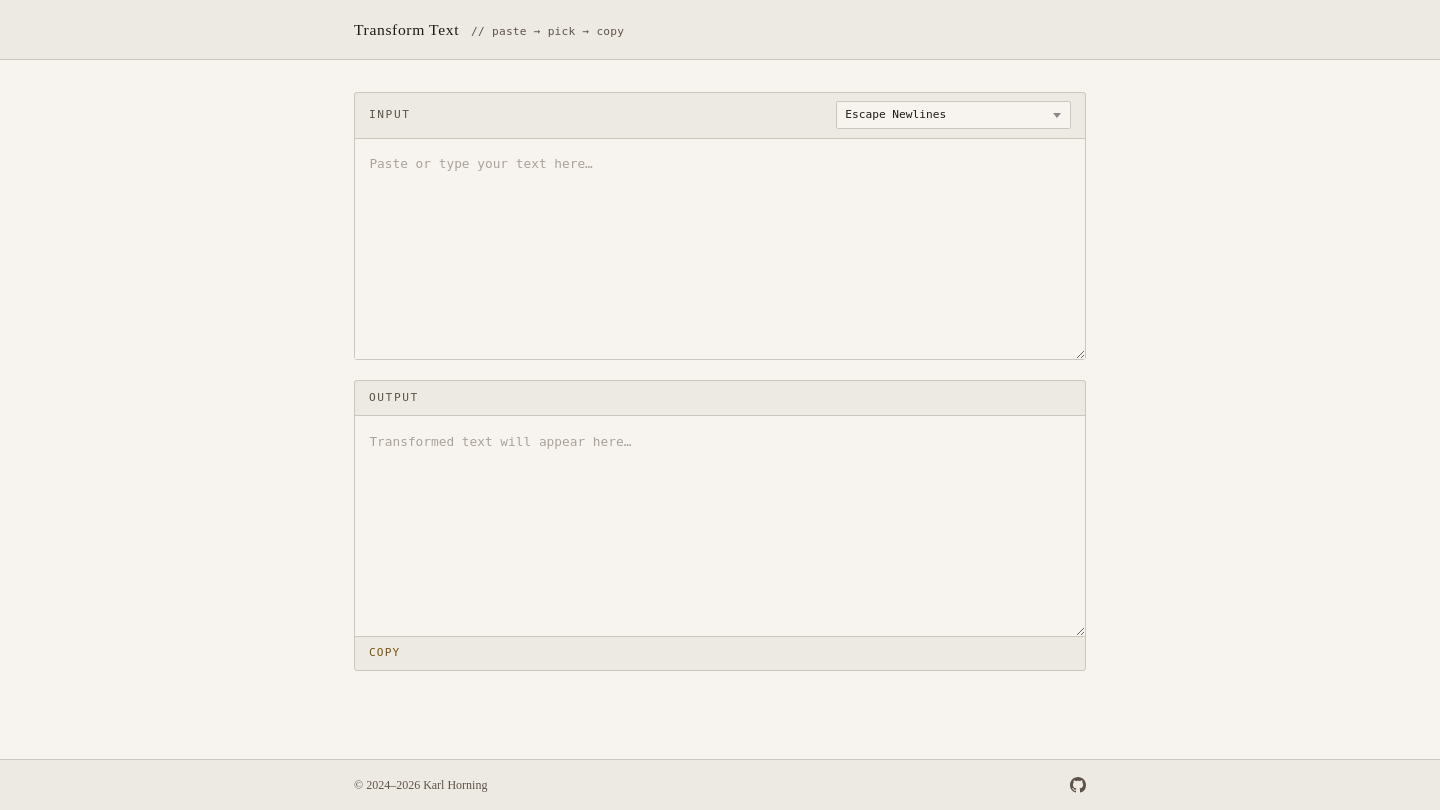
Test: App › shows a warning when copy is clicked with no output
Click the button named "copy output to clipboard" at [385, 654], box [369, 645, 400, 662]
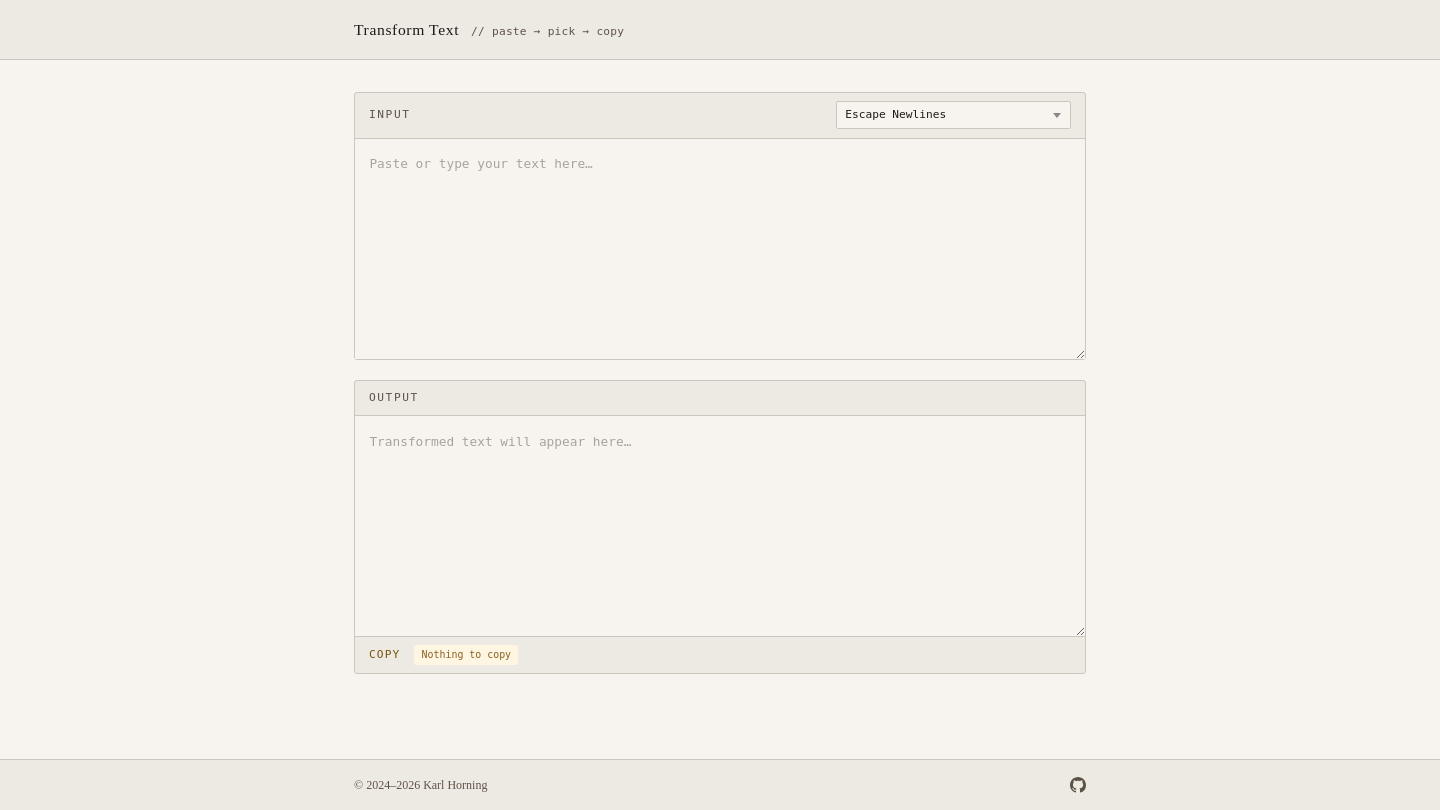
expect the message reads "Nothing to copy": met, box [422, 649, 511, 660]
